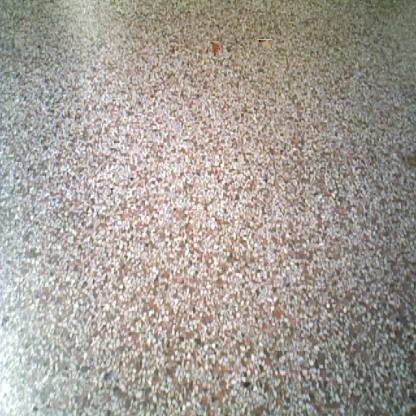dirty: (206, 42, 220, 56), (258, 39, 272, 50)
